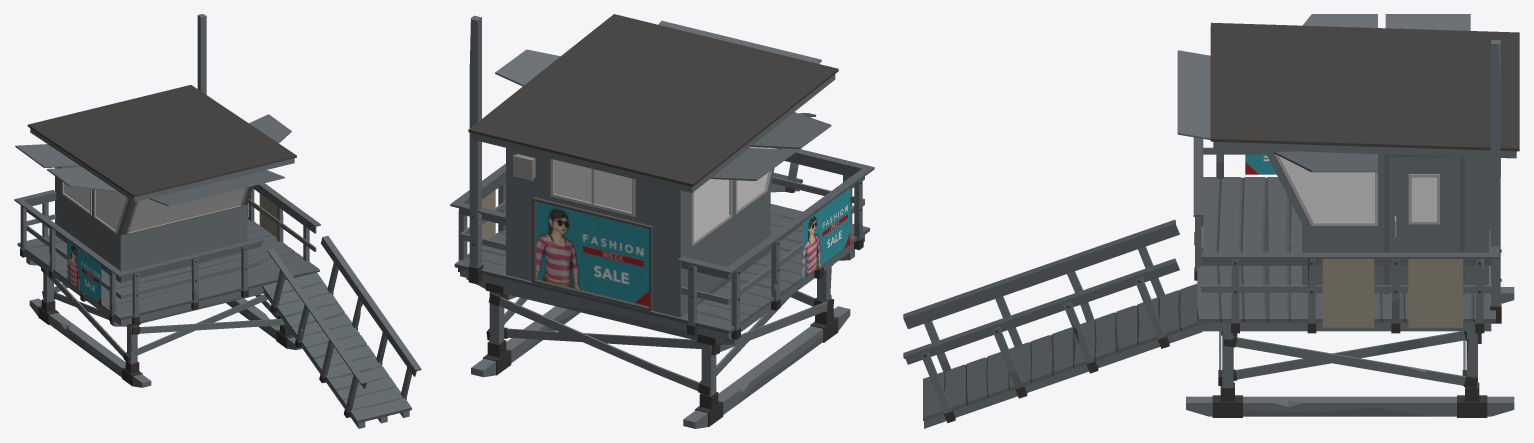
The model's file is SM_Bldg_City_Beach_Lifeguard_Tower.fbx.
3 views of the same model, side by side, from view 1: azimuth 30°, elevation 25°; view 2: azimuth 150°, elevation 25°; view 3: azimuth 270°, elevation 25° (orthographic). The views are drawn at different scales.
Parts seen in each view (by area): view 1: SM_Bldg_City_Beach_Lifeguard_Tower, SM_Bldg_City_Beach_Lifeguard_Tower_Glass; view 2: SM_Bldg_City_Beach_Lifeguard_Tower, SM_Bldg_City_Beach_Lifeguard_Tower_Glass; view 3: SM_Bldg_City_Beach_Lifeguard_Tower, SM_Bldg_City_Beach_Lifeguard_Tower_Door, SM_Bldg_City_Beach_Lifeguard_Tower_Glass.
Boxes of the visible parts, bbox=[...] form: SM_Bldg_City_Beach_Lifeguard_Tower: bbox=[14, 14, 421, 428]; SM_Bldg_City_Beach_Lifeguard_Tower_Glass: bbox=[64, 166, 245, 232]; SM_Bldg_City_Beach_Lifeguard_Tower: bbox=[450, 14, 874, 428]; SM_Bldg_City_Beach_Lifeguard_Tower_Glass: bbox=[554, 147, 773, 240]; SM_Bldg_City_Beach_Lifeguard_Tower: bbox=[903, 14, 1519, 428]; SM_Bldg_City_Beach_Lifeguard_Tower_Door: bbox=[1389, 157, 1459, 292]; SM_Bldg_City_Beach_Lifeguard_Tower_Glass: bbox=[1280, 156, 1374, 222].
Size of the model in its own units: 489 by 547 by 807.
